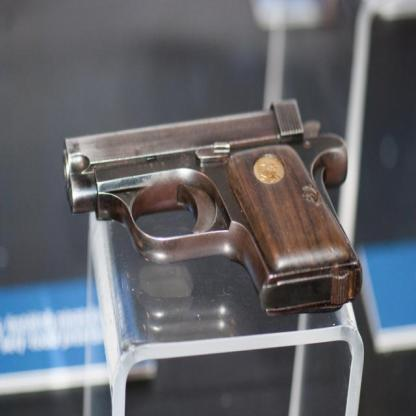weapon: (62, 99, 364, 319)
